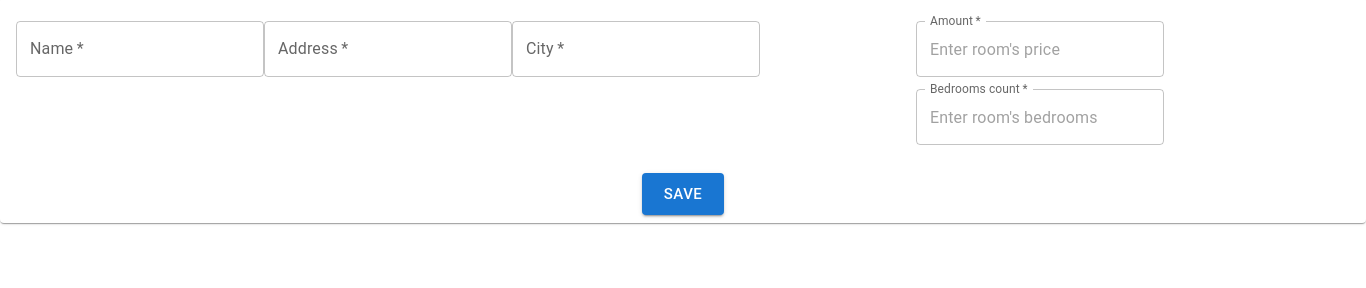
Test: New Room component › has name must be required
The width and height of the screenshot is (1366, 288).
Step 1. Click the button "save" → {"x": 683, "y": 194}, box [642,173,724,215]
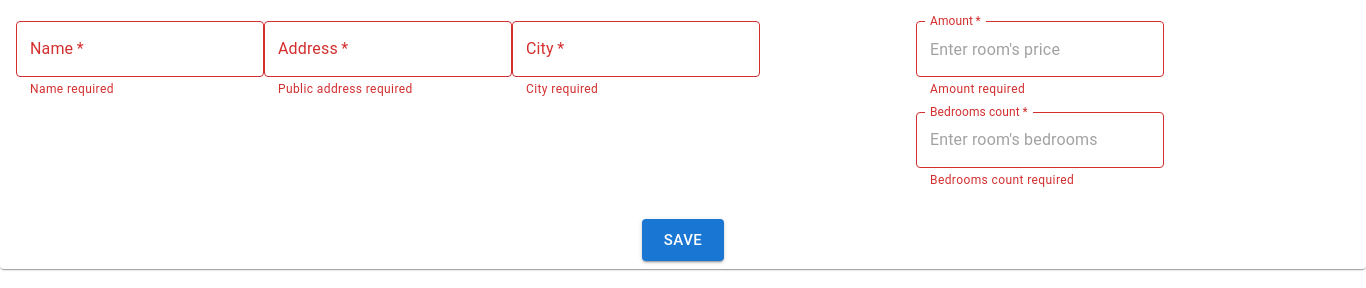
expect the text "Name required" is shown: met, box [30,82,114,96]
